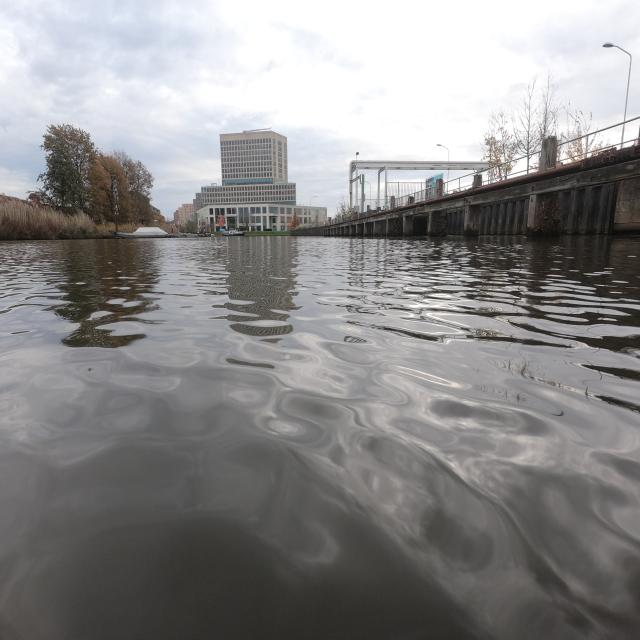boat: (128, 226, 170, 238)
reed: (0, 195, 112, 240)
sky: (14, 4, 630, 204)
tree: (38, 124, 153, 226)
wall: (294, 138, 638, 238)
water: (0, 235, 640, 640)
